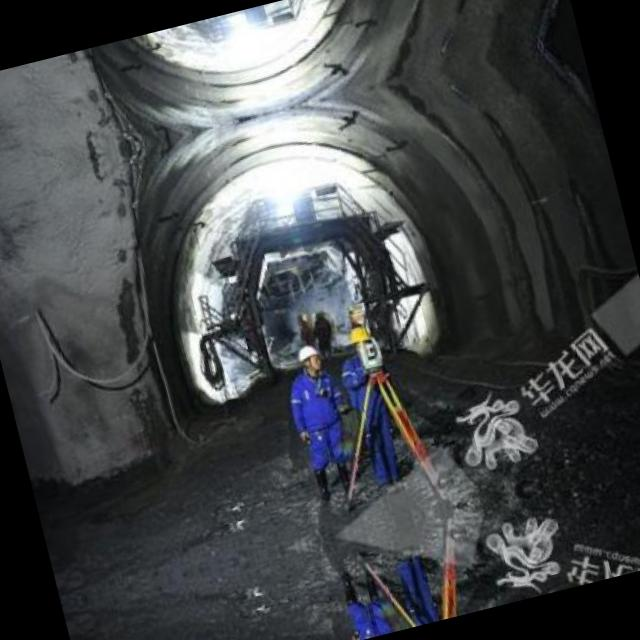helmet: (344, 321, 376, 360), (294, 340, 324, 376)
